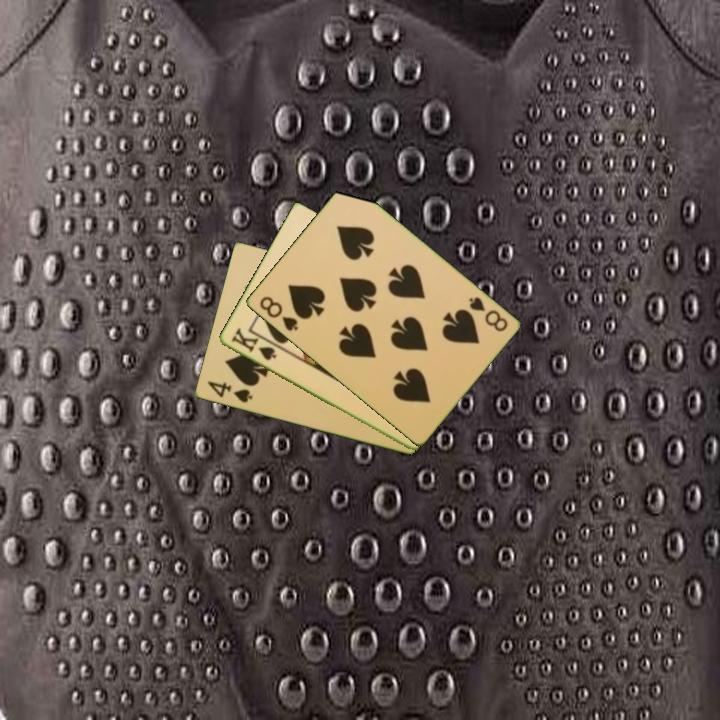4s: (204, 378, 255, 406)
8s: (464, 293, 510, 335), (256, 293, 301, 334)
Ks: (227, 324, 279, 363)
